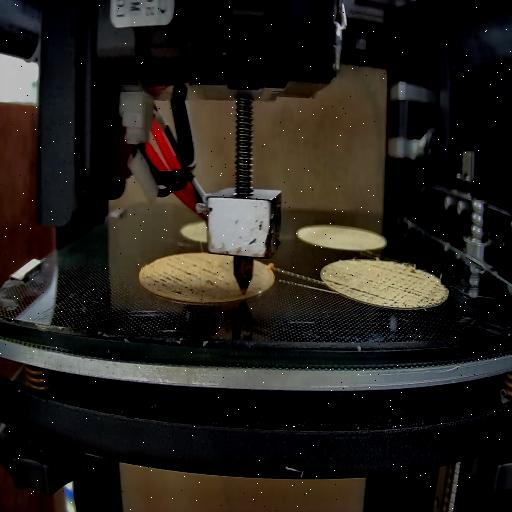under_extrusion: (323, 264, 445, 306), (142, 262, 230, 298)
